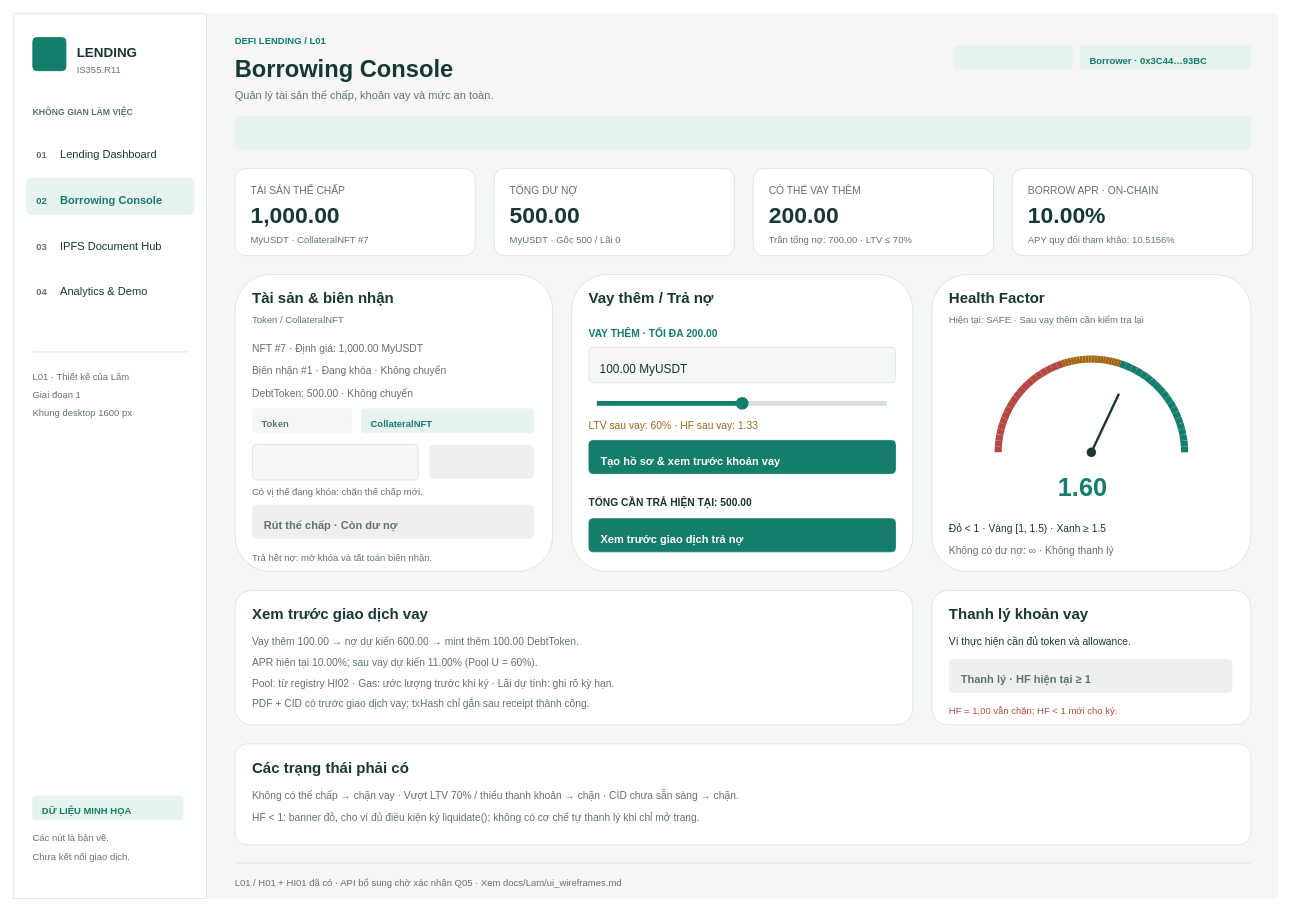
This 1292x912 diagram has some shape labels left out. The box of each missing label's shape, as (x1, y1, x2, y2) in pixels:
DL: (32, 37, 66, 71)
Local · 31337: (953, 45, 1072, 69)
Thế chấp: (429, 444, 534, 478)
Token ID #7: (252, 444, 418, 480)
WIREFRAME · Snapshot minh họa theo HI01 · APR on-chain / APY quy đổi tham khảo: (234, 116, 1251, 150)
